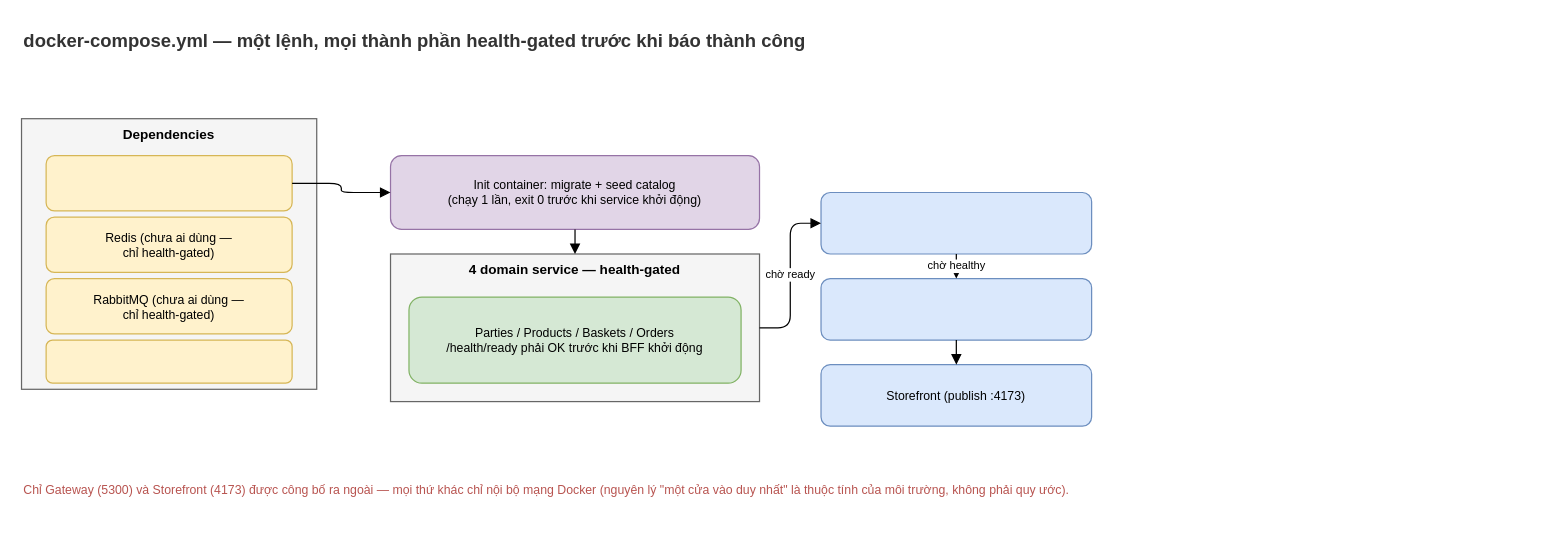
The diagram is 1556 pixels wide and 533 high, and some of its shapes have lost their labels. Each missing label, with the centre of its shape:
"BFF (nội bộ, không publish)" belongs at point (956, 222).
"Gateway (publish :5300)" belongs at point (956, 308).
"OpenTelemetry Collector" belongs at point (168, 361).
"SQL Server (1 server, 1 DB/service)" belongs at point (168, 182).
